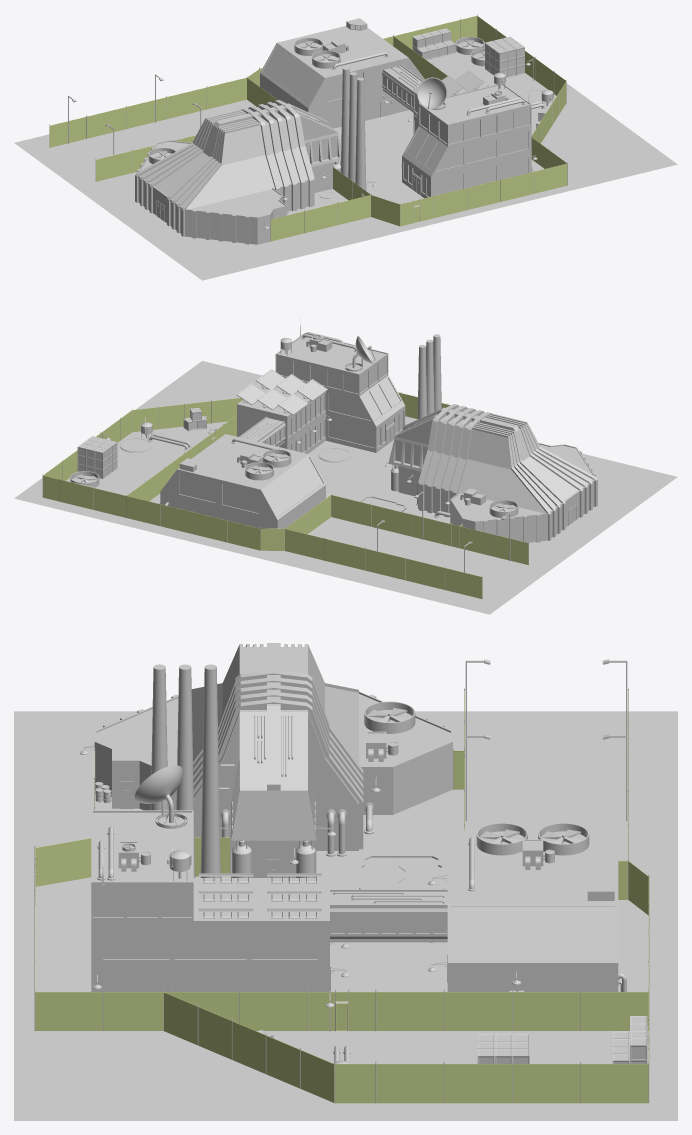
The picture shows the model from 3 angles, top to bottom: view 1: azimuth 30°, elevation 25°; view 2: azimuth 150°, elevation 25°; view 3: azimuth 270°, elevation 25°; orthographic projection. The views are drawn at different scales.
Parts seen in each view (by area): view 1: Plane004, Plane03, Box01, Box13, Box12, Box11, Box06, Cone03, Box14, Sphere01, Box08, Box02; view 2: Plane004, Plane03, Box01, Box13, Box12, Box11, Box06, Cone03, Box14, Box02, Box09; view 3: Plane004, Plane03, Box13, Box01, Box12, Cone03, Box14, Box06, Box04, Box02, Sphere01, Box11 (+5 smaller).
Part boxes in pixels (x1,y1,x2,y2): Plane004: (14,43,677,280); Plane03: (49,16,567,241); Box01: (138,103,341,244); Box13: (402,78,531,198); Box12: (260,26,424,128); Box11: (135,109,260,236); Box06: (241,100,313,212); Cone03: (340,67,366,196); Box14: (382,65,422,112); Sphere01: (417,77,447,109); Box08: (192,210,249,244); Box02: (213,103,330,127); Plane004: (14,361,677,614); Plane03: (43,392,528,598); Box01: (388,407,594,542); Box13: (237,333,405,453); Box12: (160,434,325,528); Box11: (472,413,597,540); Box06: (419,404,491,517); Cone03: (417,334,441,419); Box14: (239,416,285,446); Box02: (402,407,519,431); Box09: (483,514,540,542); Plane004: (14,711,677,1120); Plane03: (35,751,648,1103); Box13: (91,810,329,991); Box01: (94,647,452,877); Box12: (447,830,618,991); Cone03: (150,664,220,877); Box14: (330,889,447,942); Box06: (193,670,363,849); Box04: (359,855,444,889); Box02: (267,643,280,790); Sphere01: (134,765,182,824); Box11: (191,644,358,692).
Bounding box in the file's own units: 2841 × 700 × 1947.
